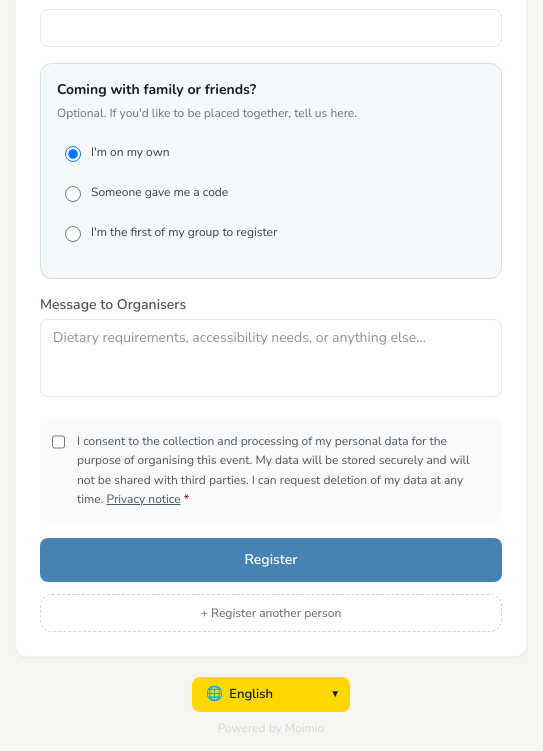
Test: the privacy notice link (LEGAL-1) › shows the same link on an extra person's card
(page scrolled)
Expected: the field named "email" is shown, [40, 9, 502, 47]
Expected: the link with test id "privacy-notice-link" is shown, [106, 491, 181, 507]
Click the button "+ Register another person": (271, 612) [40, 594, 502, 632]
(page scrolled)
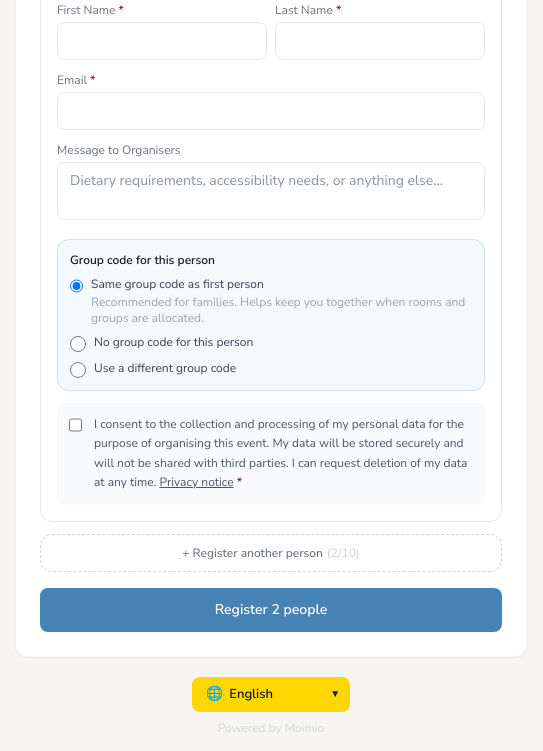
Result: the link with test id "privacy-notice-link" is shown at [160, 474, 234, 490]
